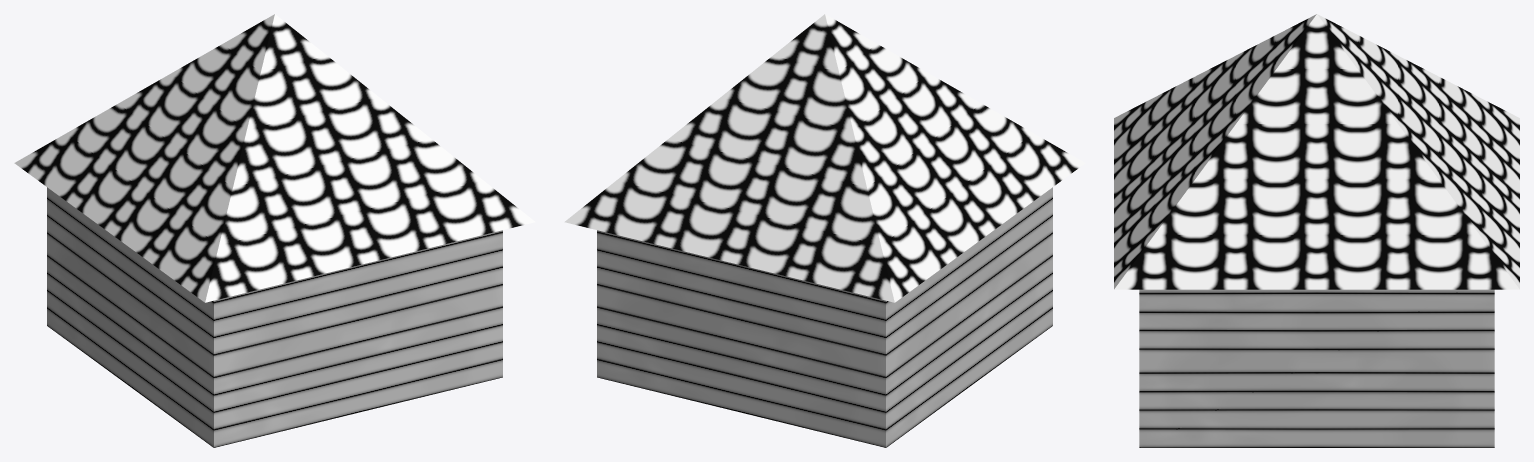
File: gongon_mainhouse.fbx
3 views of the same model, side by side, from view 1: azimuth 30°, elevation 25°; view 2: azimuth 150°, elevation 25°; view 3: azimuth 270°, elevation 25° (orthographic). The views are drawn at different scales.
Parts seen in each view (by area): view 1: MainHouseBody, MainHouseTop; view 2: MainHouseBody, MainHouseTop; view 3: MainHouseBody, MainHouseTop.
Part boxes in pixels (x1=…): MainHouseBody: x1=14, y1=14, x2=535, y2=302; MainHouseTop: x1=47, y1=187, x2=502, y2=447; MainHouseBody: x1=564, y1=14, x2=1085, y2=302; MainHouseTop: x1=597, y1=187, x2=1052, y2=447; MainHouseBody: x1=1114, y1=14, x2=1519, y2=289; MainHouseTop: x1=1139, y1=289, x2=1494, y2=447.
Size of the model in its own units: 11.32 by 11.04 by 11.32.
